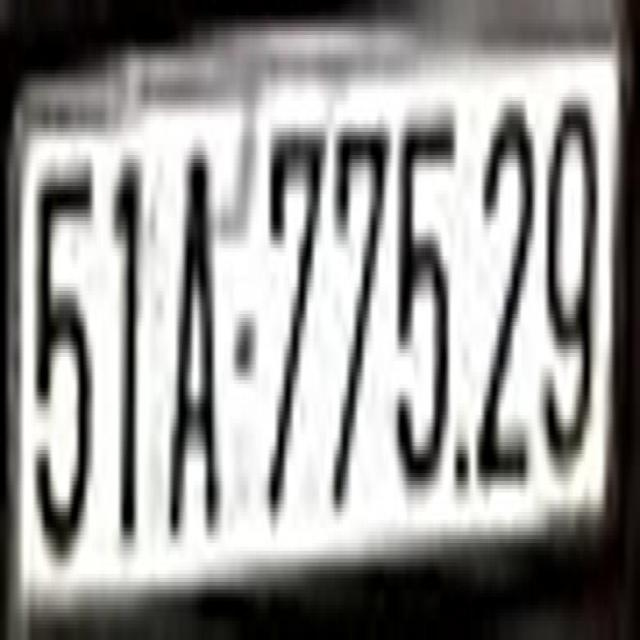1: (109, 143, 142, 554)
2: (476, 97, 537, 500)
5: (32, 159, 94, 555), (395, 108, 454, 500)
7: (258, 112, 326, 524), (332, 116, 388, 508)
9: (542, 90, 596, 470)
A: (165, 128, 223, 531)
